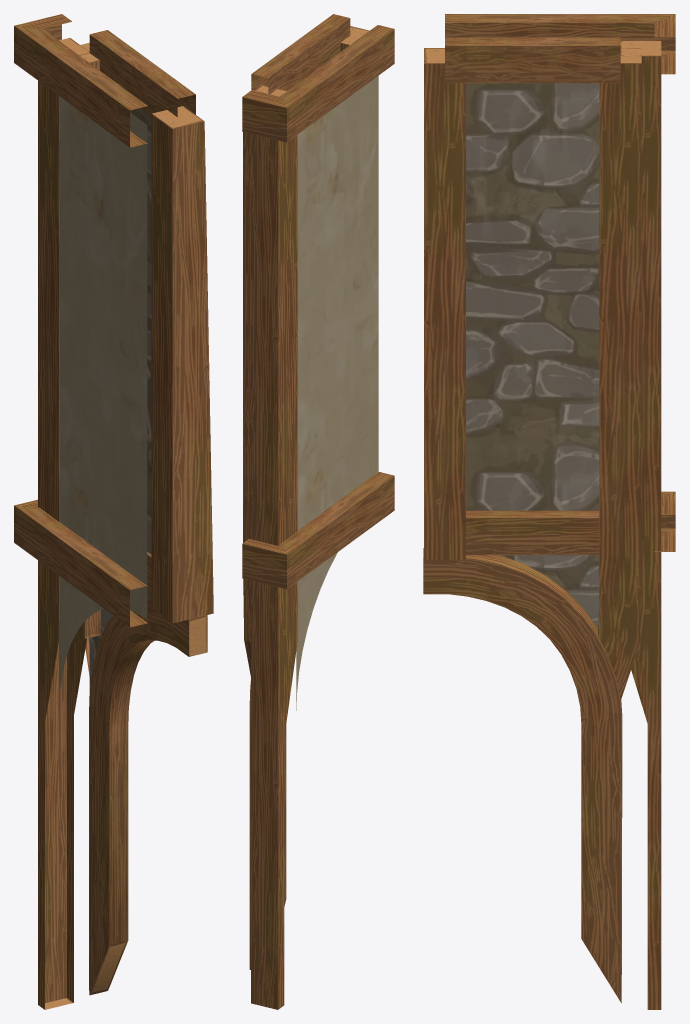
Rendered from overhang_side_unevenbrick_short_r.glb.
3 views of the same model, side by side, from view 1: azimuth 30°, elevation 25°; view 2: azimuth 150°, elevation 25°; view 3: azimuth 270°, elevation 25° (orthographic). The views are drawn at different scales.
Bounding box in the file's own units: 0.4794 × 6.12 × 1.44.
Materials: 3 (3 with a texture image).
